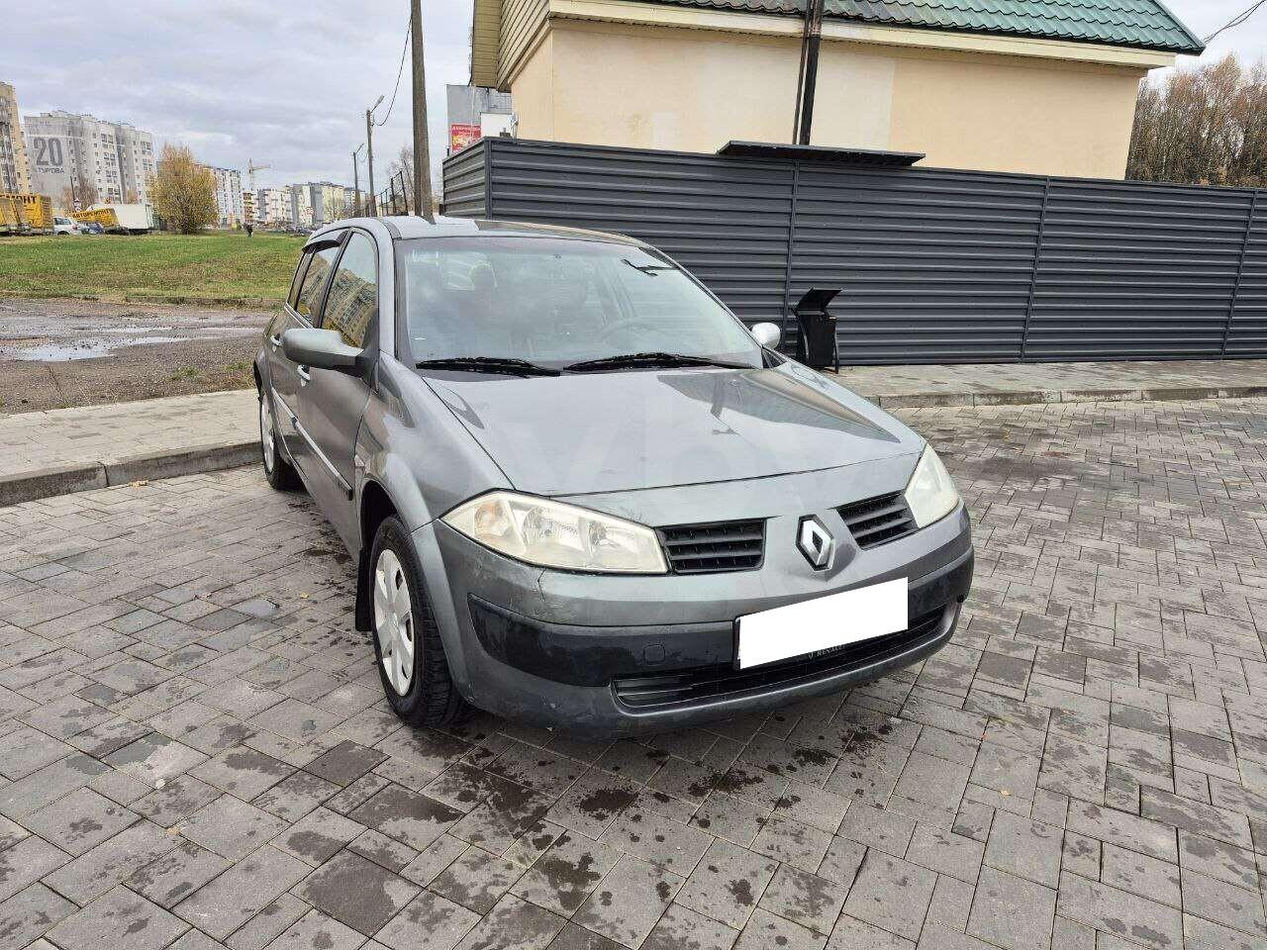Megane_2002-2006: (251, 204, 968, 752)
